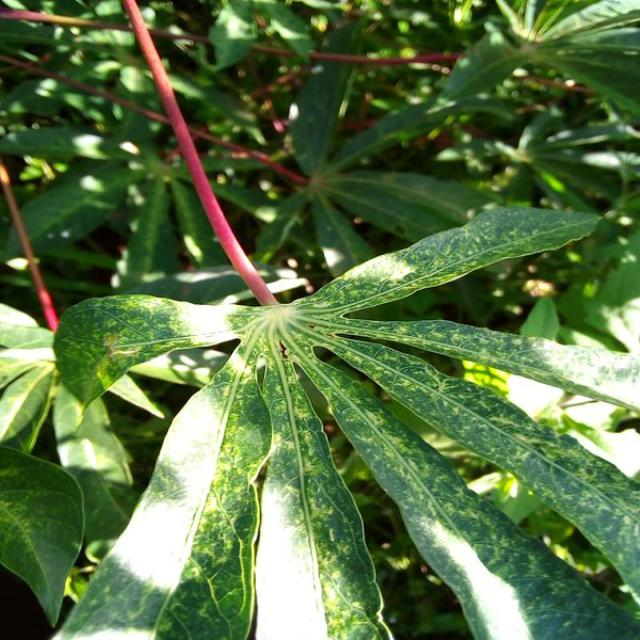cassava leaf: (48, 201, 638, 638)
